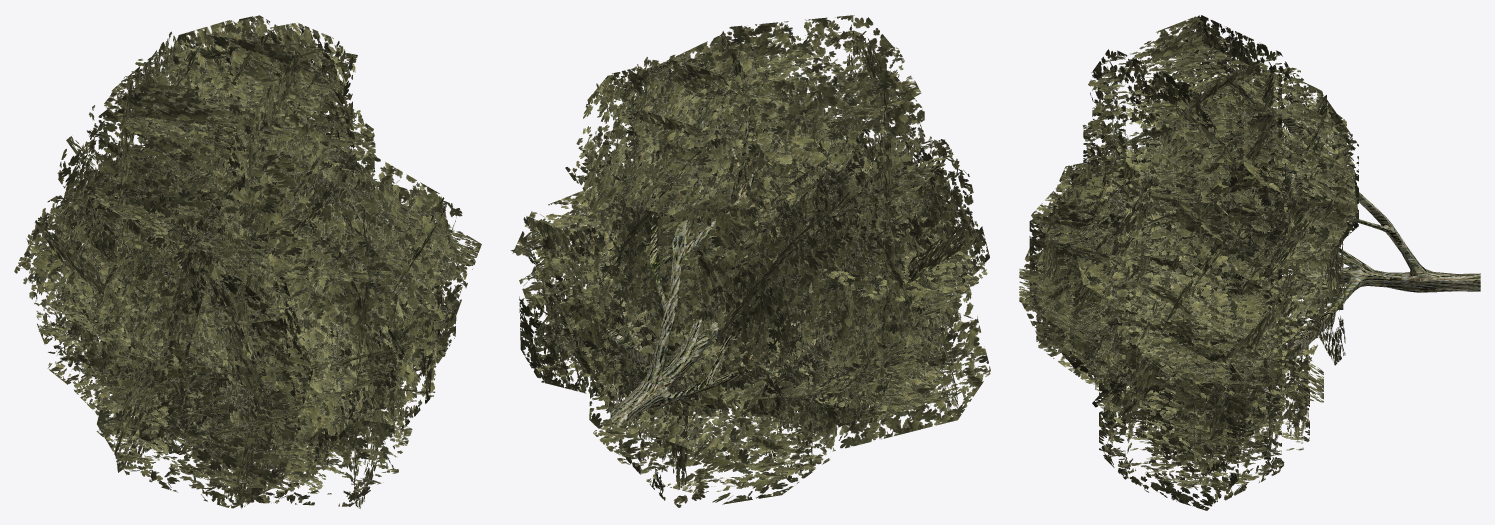
The model's file is tree3.obj.
3 views of the same model, side by side, from view 1: azimuth 30°, elevation 25°; view 2: azimuth 150°, elevation 25°; view 3: azimuth 270°, elevation 25° (orthographic). The views are drawn at different scales.
Parts seen in each view (by area): view 1: object2; view 2: object2, object1; view 3: object2, object1.
Boxes of the visible parts, x1,y1,x2,y2 form: object2: (14, 15, 481, 508); object2: (510, 15, 990, 507); object1: (553, 103, 866, 428); object2: (1019, 15, 1358, 510); object1: (1209, 97, 1480, 412).
Size of the model in its own units: 5.66 by 5.55 by 5.9.
